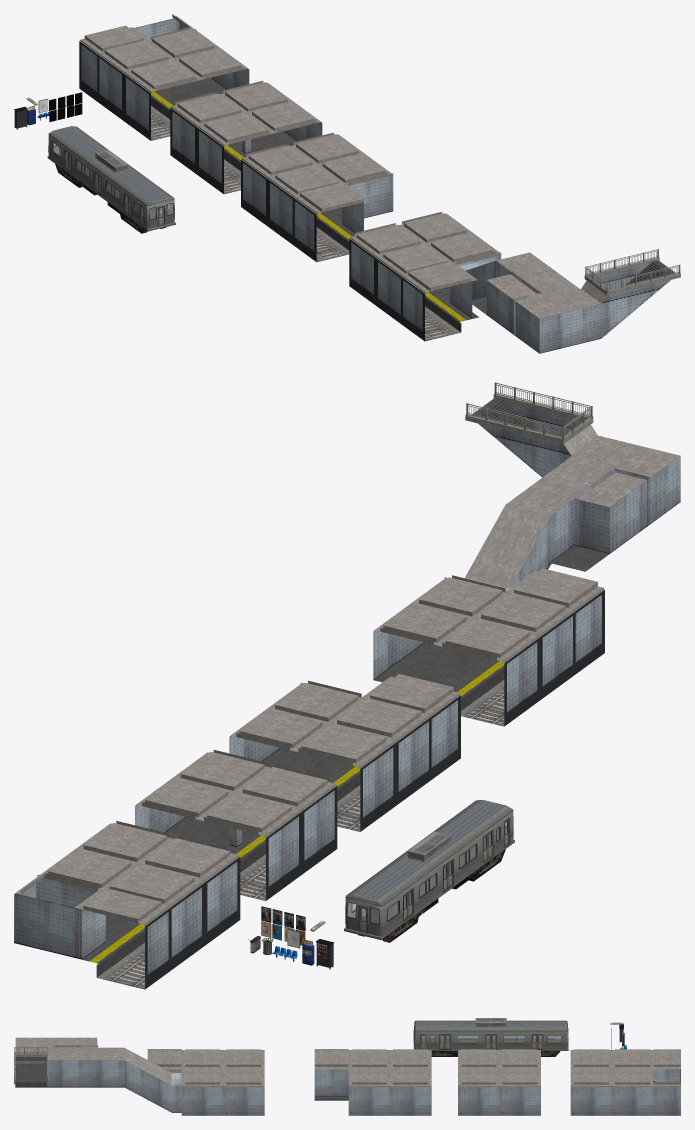
File: Metro.glb
3 renders of one model, top to bottom at view 1: azimuth 30°, elevation 25°; view 2: azimuth 150°, elevation 25°; view 3: azimuth 270°, elevation 25°, orthographic. The views are drawn at different scales.
Visible parts, largest first — view 1: St_03, St_02, St, St_01, subway_car, Railing, Stairs_01, Estruc; view 2: St_03, St_02, St, St_01, subway_car, Estruc, Railing, Stairs_01, Stairs; view 3: St_03, St_02, St, St_01, subway_car, Stairs, Estruc, Railing.
Boxes of the visible parts, box(x1,y1,x2,y2) form: St_03: box(349, 212, 680, 353); St_02: box(241, 132, 393, 262); St: box(79, 14, 249, 140); St_01: box(170, 80, 322, 194); subway_car: box(47, 126, 175, 233); Railing: box(585, 249, 680, 291); Stairs_01: box(602, 260, 675, 337); Estruc: box(134, 18, 178, 39); St_03: box(373, 394, 680, 726); St_02: box(229, 674, 460, 831); St: box(14, 821, 240, 989); St_01: box(135, 750, 337, 900); subway_car: box(344, 800, 514, 942); Estruc: box(14, 878, 105, 959); Railing: box(466, 382, 593, 438); Stairs_01: box(472, 397, 542, 477); Stairs: box(546, 502, 680, 571); St_03: box(14, 1037, 264, 1115); St_02: box(314, 1049, 431, 1115); St: box(570, 1049, 680, 1115); St_01: box(458, 1049, 540, 1115); subway_car: box(413, 1018, 568, 1056); Stairs: box(15, 1064, 171, 1111); Estruc: box(653, 1069, 680, 1082); Railing: box(14, 1047, 47, 1081).
Size of the model in its own units: 36.9 by 12.69 by 101.
26 materials, 25 textured.
